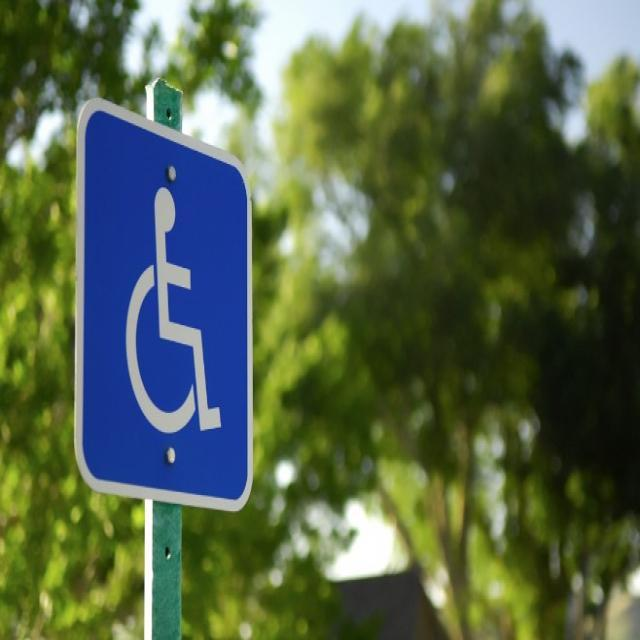symbol_of_access: (72, 95, 254, 512)
